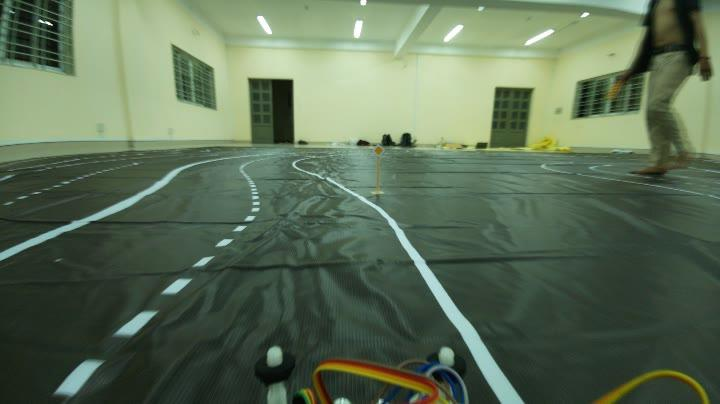priority: (370, 142, 386, 160)
